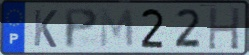2: (174, 7, 203, 50), (141, 8, 166, 49)
H: (206, 6, 241, 52)
K: (32, 8, 58, 49)
M: (98, 8, 136, 50)
P: (63, 7, 100, 51)
